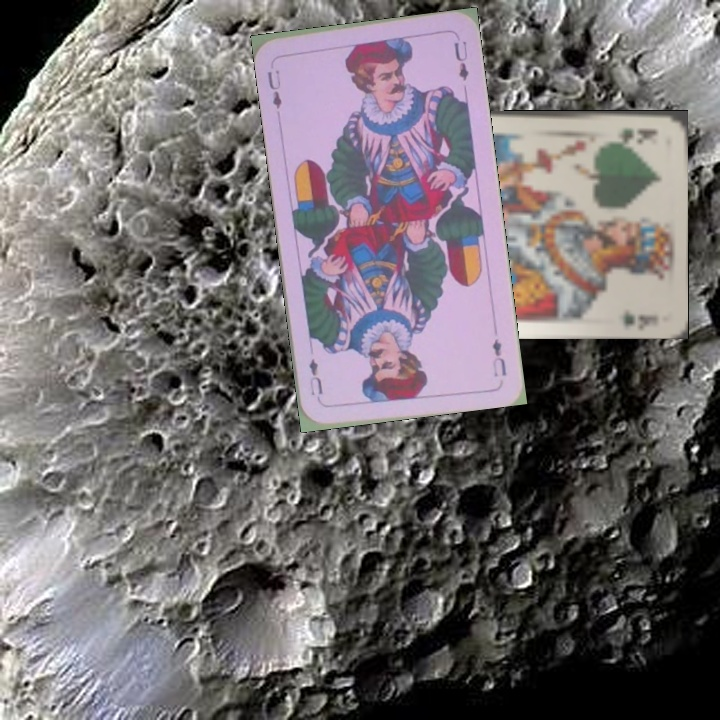EU: (263, 66, 284, 111), (488, 335, 509, 379)
GK: (614, 123, 660, 144)
